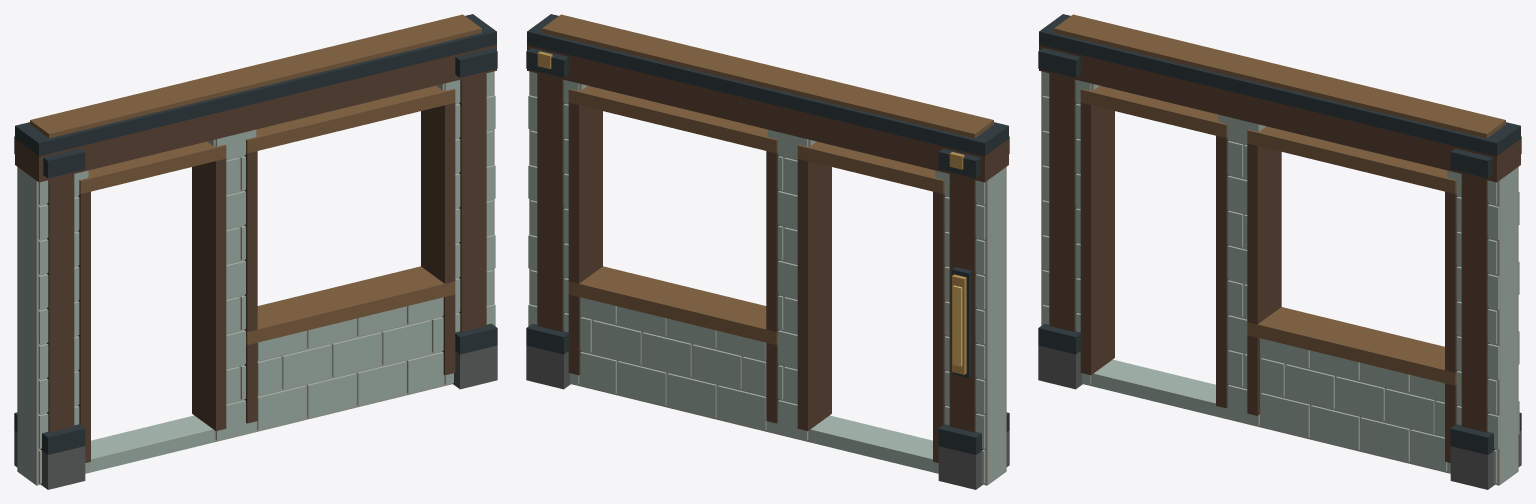
Rendered from visual-far.glb.
3 renders of one model, left to right at view 1: azimuth 30°, elevation 25°; view 2: azimuth 150°, elevation 25°; view 3: azimuth 330°, elevation 25°, orthographic.
Parts seen in each view (by area): view 1: 旧楼分段入口及窗洞墙; view 2: 旧楼分段入口及窗洞墙; view 3: 旧楼分段入口及窗洞墙.
Boxes of the visible parts, bbox=[...] form: 旧楼分段入口及窗洞墙: bbox=[14, 14, 497, 489]; 旧楼分段入口及窗洞墙: bbox=[526, 14, 1009, 489]; 旧楼分段入口及窗洞墙: bbox=[1038, 14, 1521, 489].
Bounding box in the file's own units: 4.4 × 3.2 × 0.6.
Materials: 8 (8 with a texture image).
